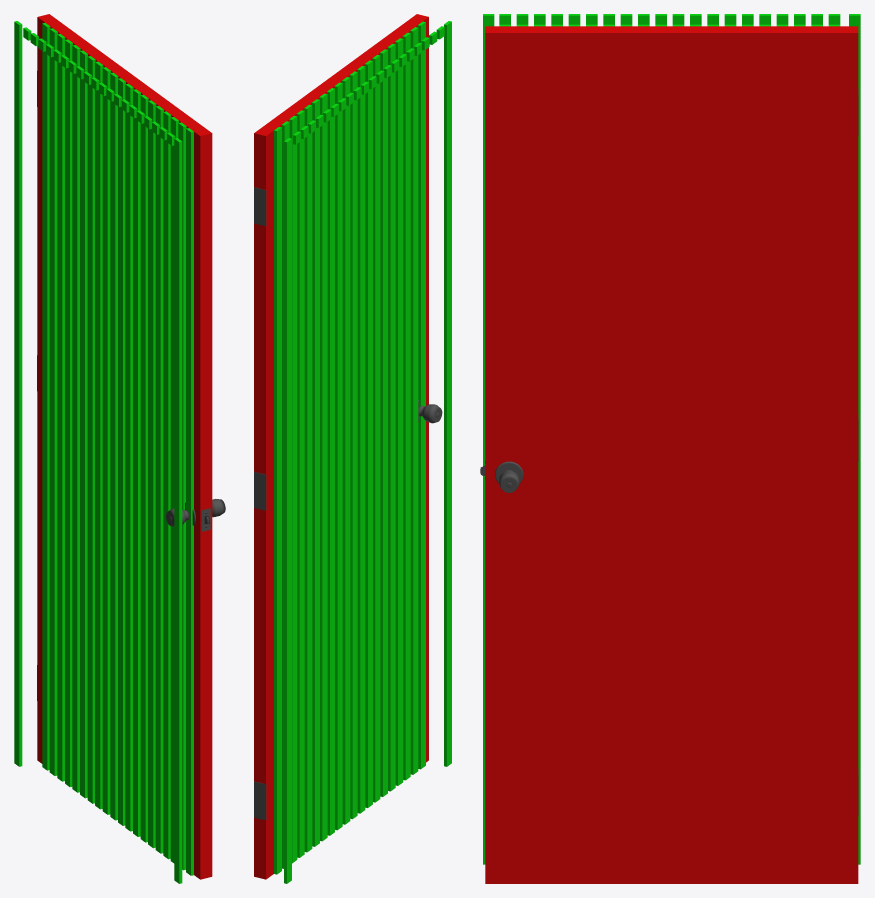
The model's file is SM_MB_Door_2.fbx.
3 renders of one model, left to right at view 1: azimuth 30°, elevation 25°; view 2: azimuth 150°, elevation 25°; view 3: azimuth 270°, elevation 25°, orthographic. The views are drawn at different scales.
Visible parts, largest first — view 1: SM_MB_Door_2; view 2: SM_MB_Door_2; view 3: SM_MB_Door_2.
Part boxes in pixels (box(x1,y1,x2,y2)): SM_MB_Door_2: box(14, 14, 225, 883); SM_MB_Door_2: box(254, 14, 451, 883); SM_MB_Door_2: box(480, 14, 860, 883).
Bounding box in the file's own units: 15.78 × 207 × 83.58.
